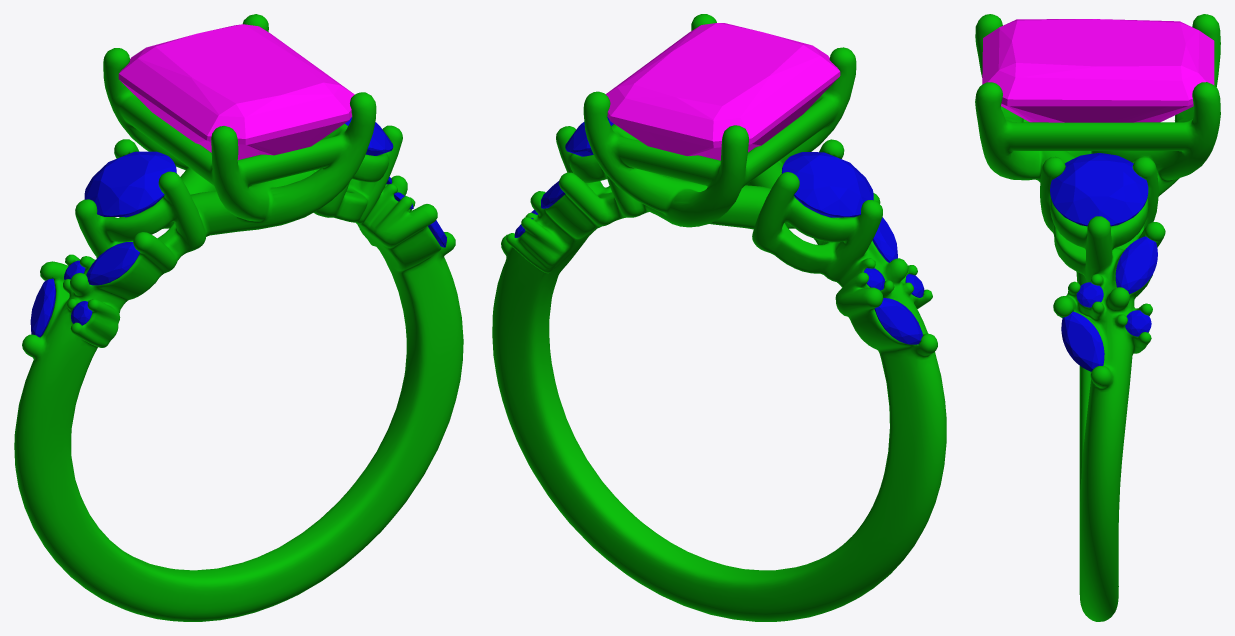
File: BE1D356_RA_200ct_RENDER.glb
3 renders of one model, left to right at view 1: azimuth 30°, elevation 25°; view 2: azimuth 150°, elevation 25°; view 3: azimuth 270°, elevation 25°, orthographic.
Visible parts, largest first — view 1: Metal 01, CS_Diamond_Radiant, Diamond_Round_side.002, Diamond_Marquise_side.001, Diamond_Marquise_side; view 2: Metal 01, CS_Diamond_Radiant, Diamond_Round_side.002, Diamond_Marquise_side, Diamond_Marquise_side.001; view 3: Metal 01, CS_Diamond_Radiant, Diamond_Round_side.005, Diamond_Marquise_side.002, Diamond_Marquise_side.003, Diamond_Round_side.003, Diamond_Round_side.004.
Boxes of the visible parts, box(x1,y1,x2,y2) form: Metal 01: box(14, 14, 463, 621); CS_Diamond_Radiant: box(118, 24, 354, 159); Diamond_Round_side.002: box(84, 151, 176, 217); Diamond_Marquise_side.001: box(86, 242, 139, 285); Diamond_Marquise_side: box(30, 278, 55, 337); Metal 01: box(492, 14, 946, 621); CS_Diamond_Radiant: box(605, 23, 840, 160); Diamond_Round_side.002: box(781, 152, 873, 217); Diamond_Marquise_side: box(874, 298, 922, 344); Diamond_Marquise_side.001: box(872, 217, 897, 262); Metal 01: box(975, 14, 1220, 621); CS_Diamond_Radiant: box(982, 19, 1214, 122); Diamond_Round_side.005: box(1050, 153, 1148, 226); Diamond_Marquise_side.002: box(1061, 311, 1104, 371); Diamond_Marquise_side.003: box(1115, 236, 1157, 294); Diamond_Round_side.003: box(1125, 310, 1151, 336); Diamond_Round_side.004: box(1076, 282, 1103, 307).
Bounding box in the file's own units: 21.24 × 24.99 × 10.
